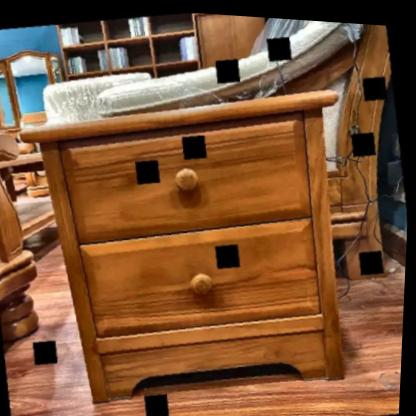Nightstand: (14, 72, 372, 416)
